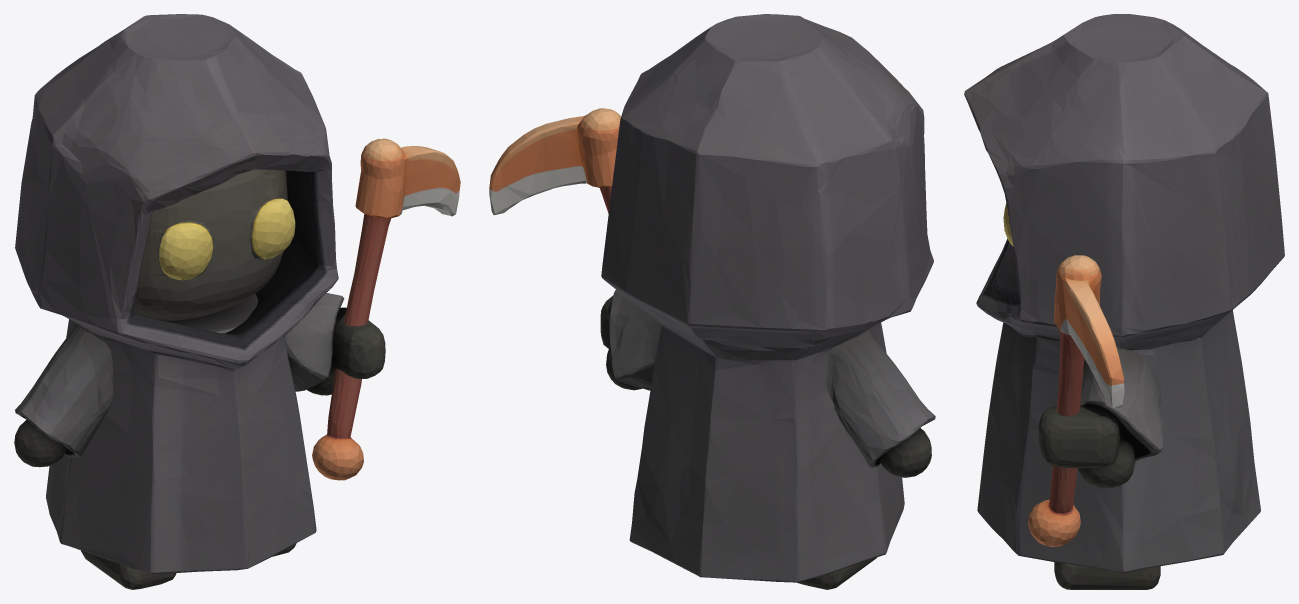
File: reaper.glb
The picture shows the model from 3 angles, left to right: view 1: azimuth 30°, elevation 25°; view 2: azimuth 150°, elevation 25°; view 3: azimuth 270°, elevation 25°; orthographic projection. The views are drawn at different scales.
Parts seen in each view (by area): view 1: Reaper_hooded cloak, Reaper_creature body, Reaper_toy scythe; view 2: Reaper_hooded cloak, Reaper_creature body, Reaper_toy scythe; view 3: Reaper_hooded cloak, Reaper_creature body, Reaper_toy scythe.
Boxes of the visible parts, bbox=[...] form: Reaper_hooded cloak: bbox=[15, 14, 338, 574]; Reaper_creature body: bbox=[14, 169, 385, 589]; Reaper_toy scythe: bbox=[312, 138, 460, 480]; Reaper_hooded cloak: bbox=[601, 14, 933, 582]; Reaper_creature body: bbox=[600, 290, 935, 589]; Reaper_toy scythe: bbox=[489, 108, 620, 214]; Reaper_hooded cloak: bbox=[964, 14, 1284, 573]; Reaper_creature body: bbox=[1003, 203, 1163, 589]; Reaper_toy scythe: bbox=[1028, 255, 1124, 546].
Bounding box in the file's own units: 6.27 × 7.08 × 4.
Materials: 3 (3 with a texture image).
